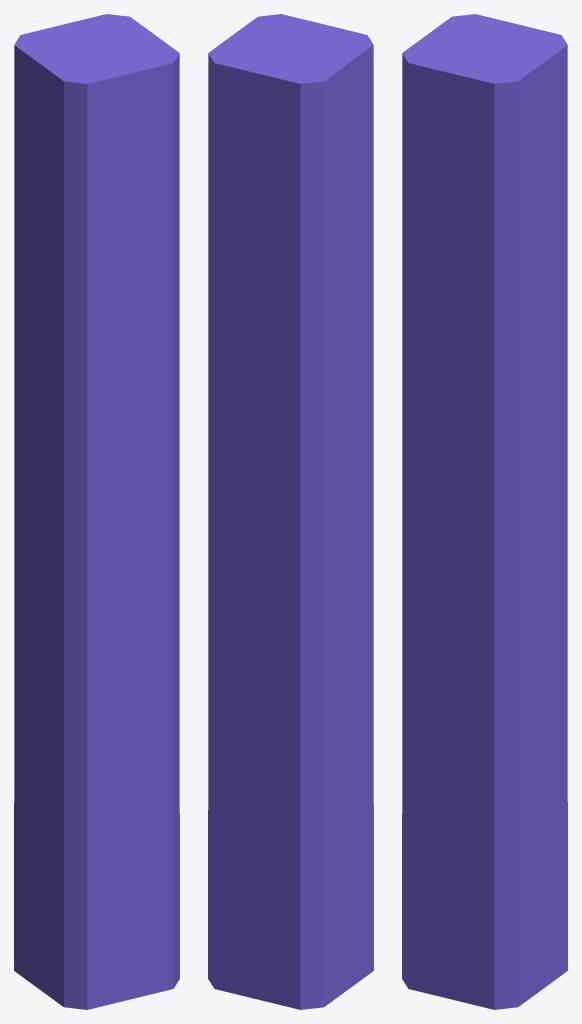
File: Pillar_NoTop.fbx
3 renders of one model, left to right at view 1: azimuth 30°, elevation 25°; view 2: azimuth 150°, elevation 25°; view 3: azimuth 330°, elevation 25°, orthographic.
Parts seen in each view (by area): view 1: Pillar_NoTop; view 2: Pillar_NoTop; view 3: Pillar_NoTop.
Boxes of the visible parts, bbox=[...] form: Pillar_NoTop: bbox=[14, 14, 179, 1009]; Pillar_NoTop: bbox=[208, 14, 373, 1009]; Pillar_NoTop: bbox=[402, 14, 567, 1009].
Bounding box in the file's own units: 400 × 3051 × 400.
